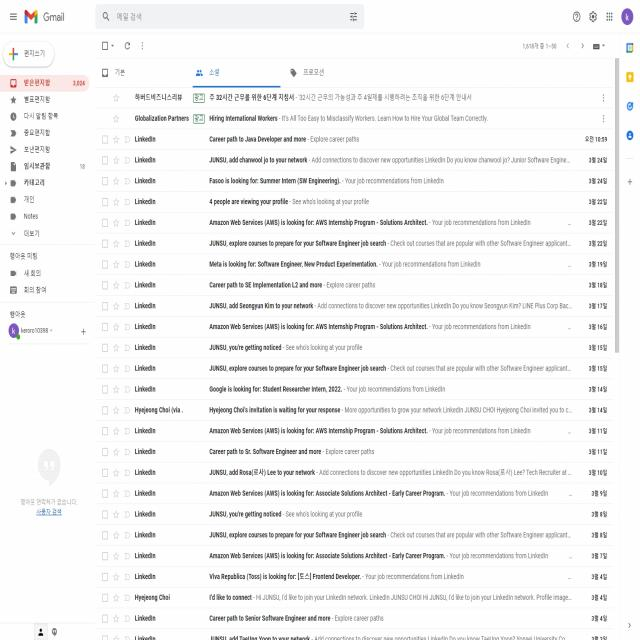menu-bar: (563, 1, 640, 28)
side-panel: (618, 28, 640, 640)
